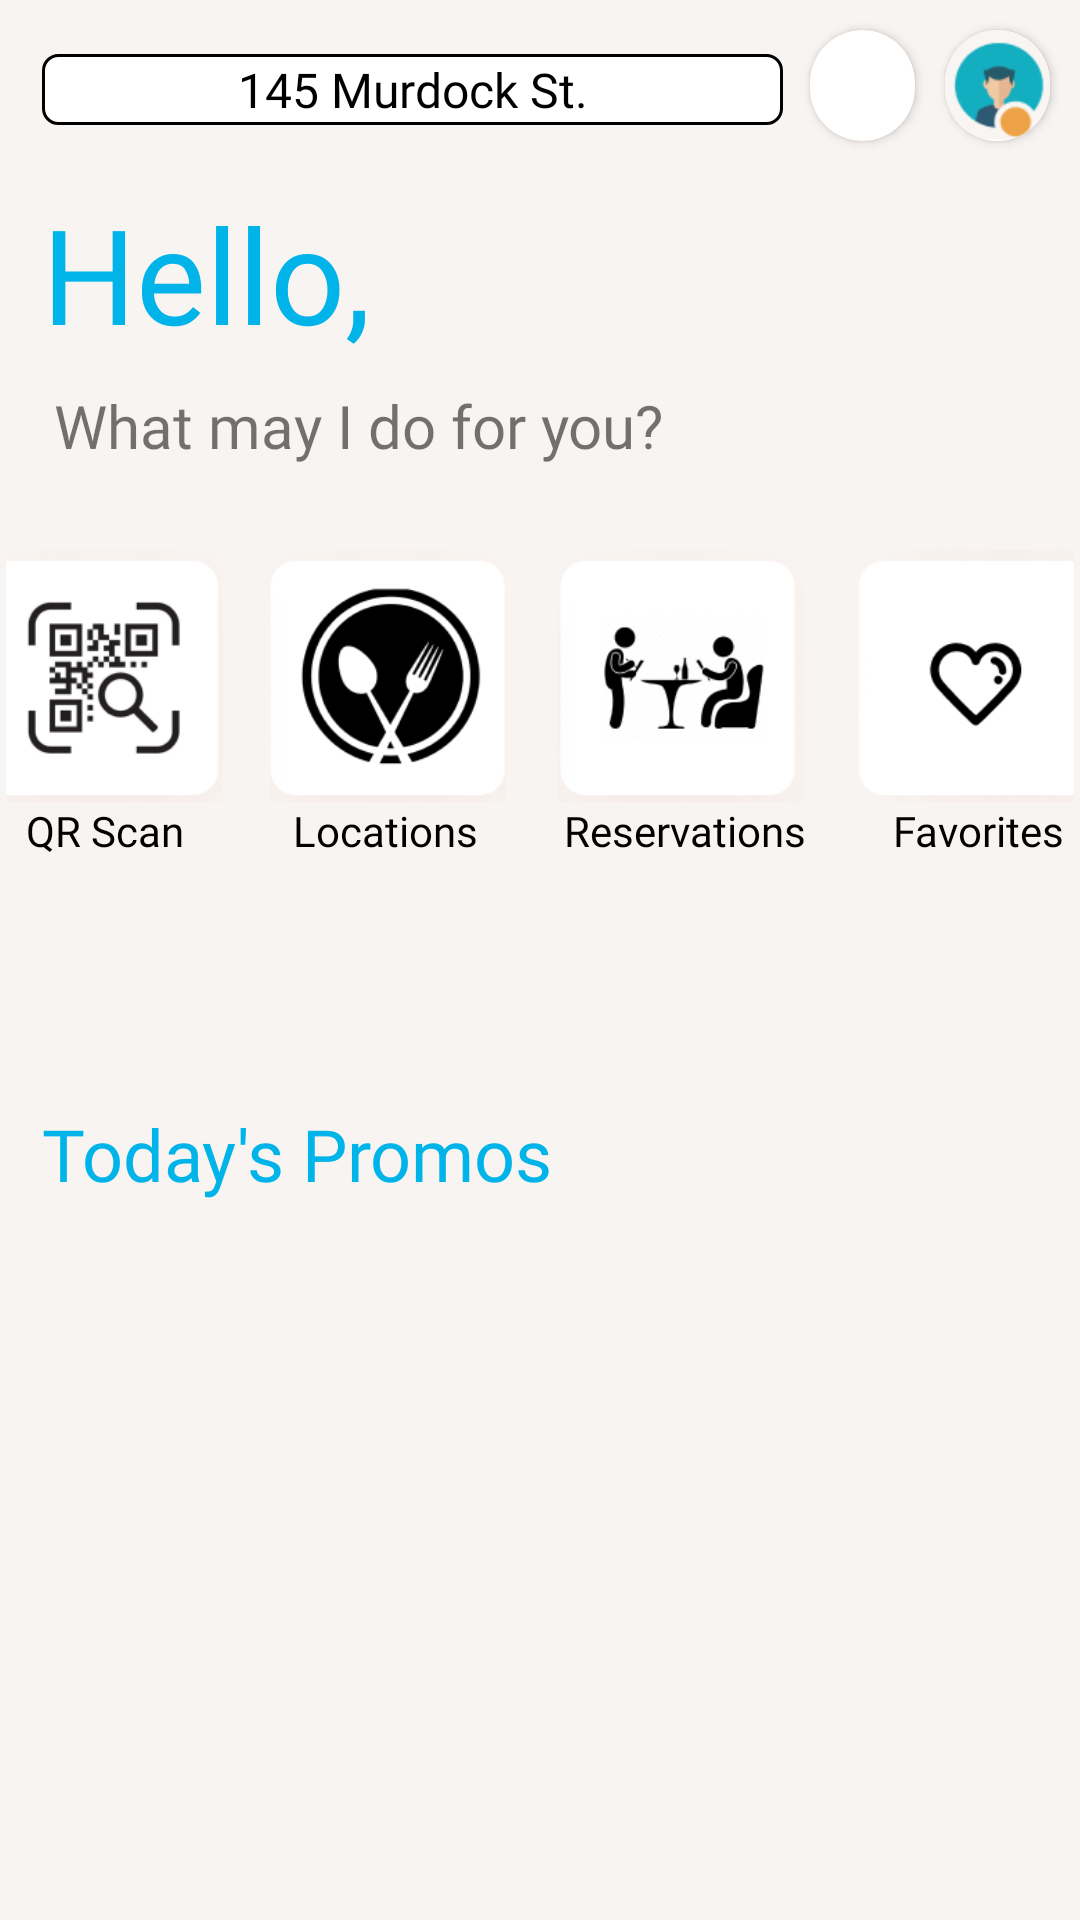

Icons on this 1080×1920 Android screen, each with the point to tap as (x=x, y=y):
user: (x=1002, y=85)
